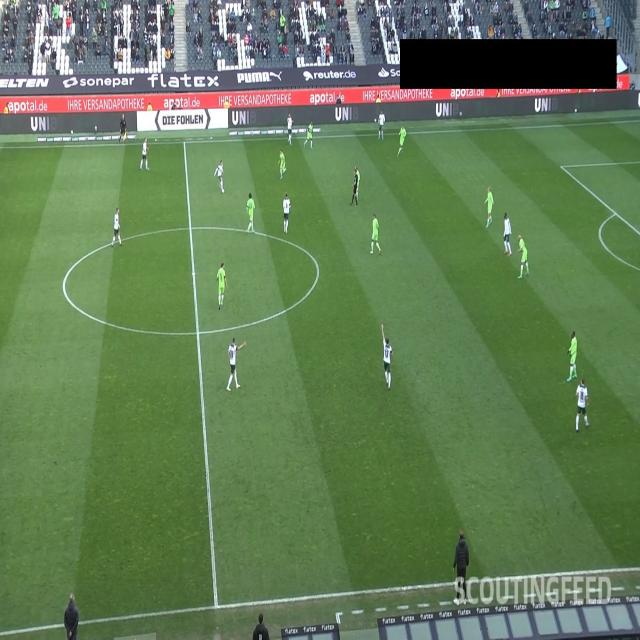ball: (221, 188, 225, 195)
